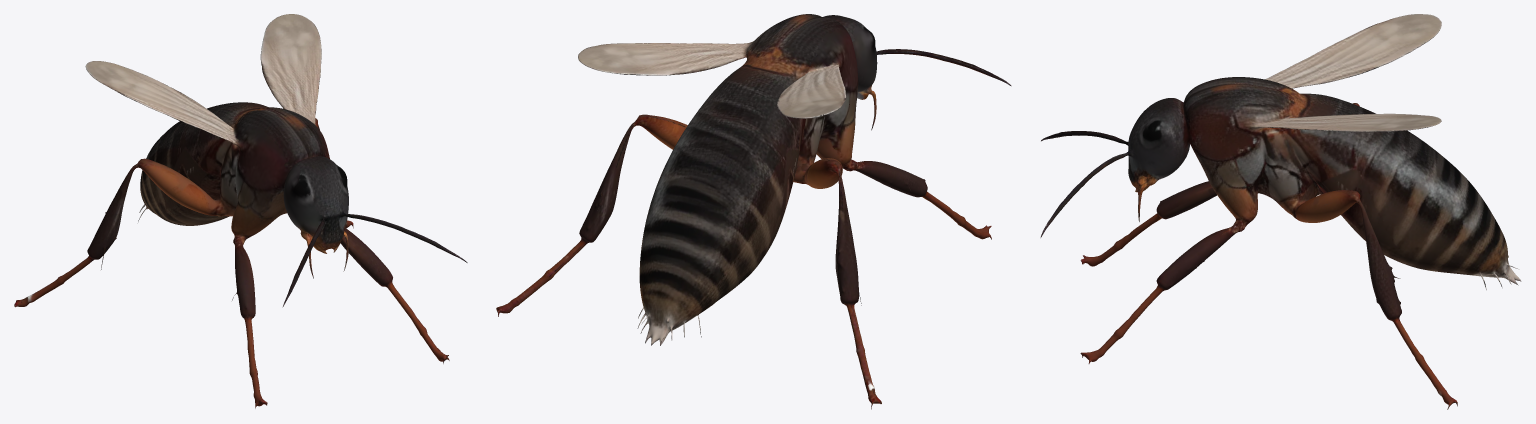
File: vet_parasite_flea.glb
3 renders of one model, left to right at view 1: azimuth 30°, elevation 25°; view 2: azimuth 150°, elevation 25°; view 3: azimuth 270°, elevation 25°, orthographic. The views are drawn at different scales.
Visible parts, largest first — view 1: model; view 2: model; view 3: model.
Part boxes in pixels (x1=…): model: x1=14, y1=14, x2=467, y2=408; model: x1=496, y1=14, x2=1011, y2=409; model: x1=1040, y1=14, x2=1521, y2=409.
Bounding box in the file's own units: 1.64 × 1.09 × 1.89.
Materials: 1 (1 with a texture image).
